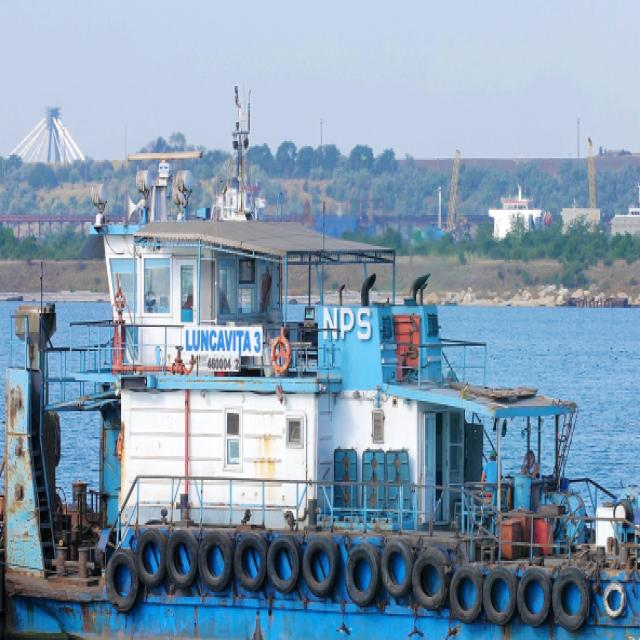tugboat: (1, 133, 640, 640)
